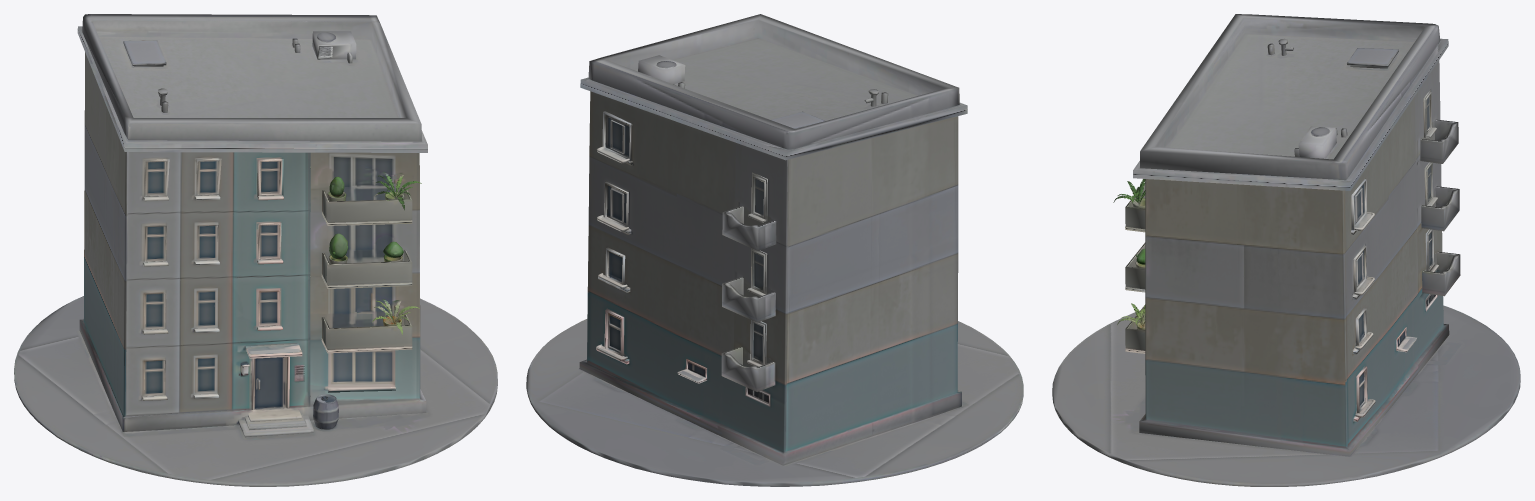
The model's file is apartment+building+3d+model.fbx.
3 views of the same model, side by side, from view 1: azimuth 30°, elevation 25°; view 2: azimuth 150°, elevation 25°; view 3: azimuth 270°, elevation 25° (orthographic). The views are drawn at different scales.
Visible parts, largest first — view 1: tripo_28e2ae43_ee7e_430c_9484_d49f677d1463; view 2: tripo_28e2ae43_ee7e_430c_9484_d49f677d1463; view 3: tripo_28e2ae43_ee7e_430c_9484_d49f677d1463.
Boxes of the visible parts, left/top/right/bottom form: tripo_28e2ae43_ee7e_430c_9484_d49f677d1463: left=14, top=14, right=497, bottom=486; tripo_28e2ae43_ee7e_430c_9484_d49f677d1463: left=526, top=14, right=1023, bottom=486; tripo_28e2ae43_ee7e_430c_9484_d49f677d1463: left=1052, top=14, right=1520, bottom=486.
Bounding box in the file's own units: 0.9995 × 0.7651 × 0.9995.
1 material, 1 textured.
